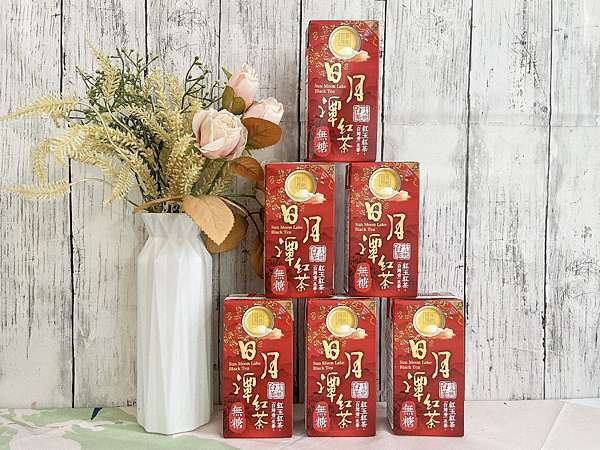鋁箔包: (256, 155, 347, 302), (385, 288, 472, 441), (341, 154, 428, 300), (217, 290, 300, 440), (300, 293, 381, 440), (303, 13, 382, 162)
